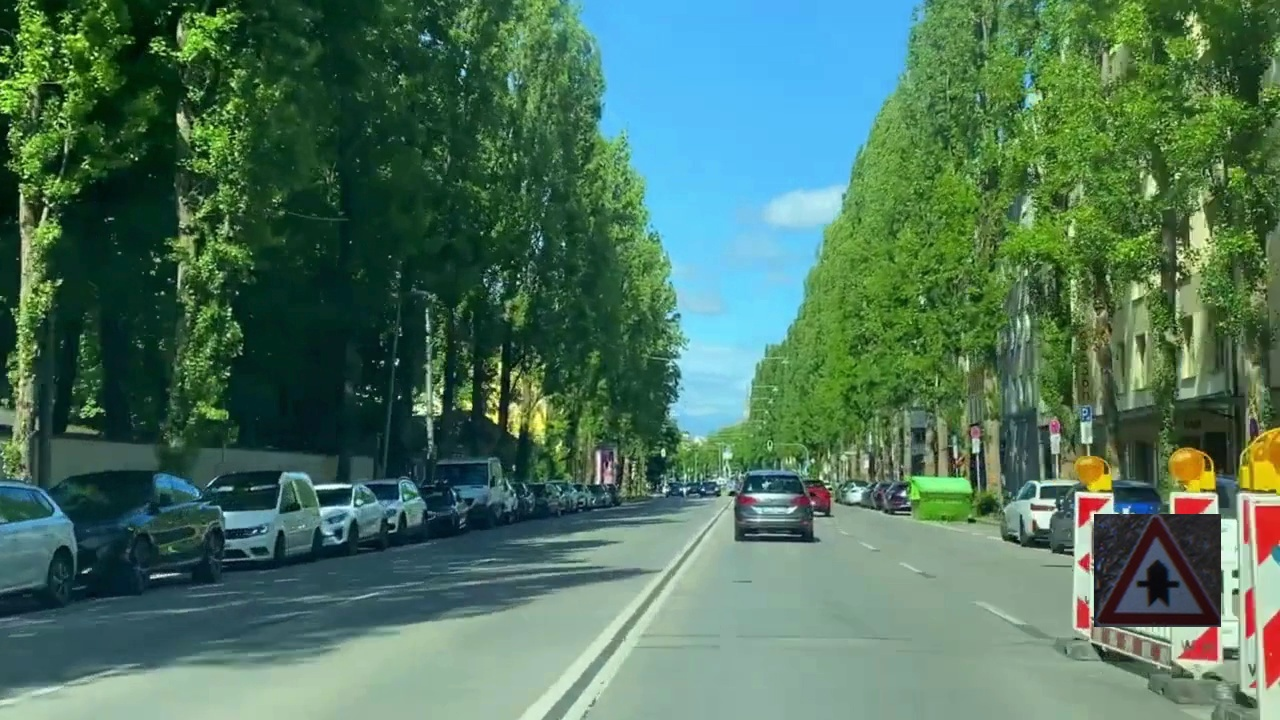Right-of-way: (1094, 514, 1221, 627)
